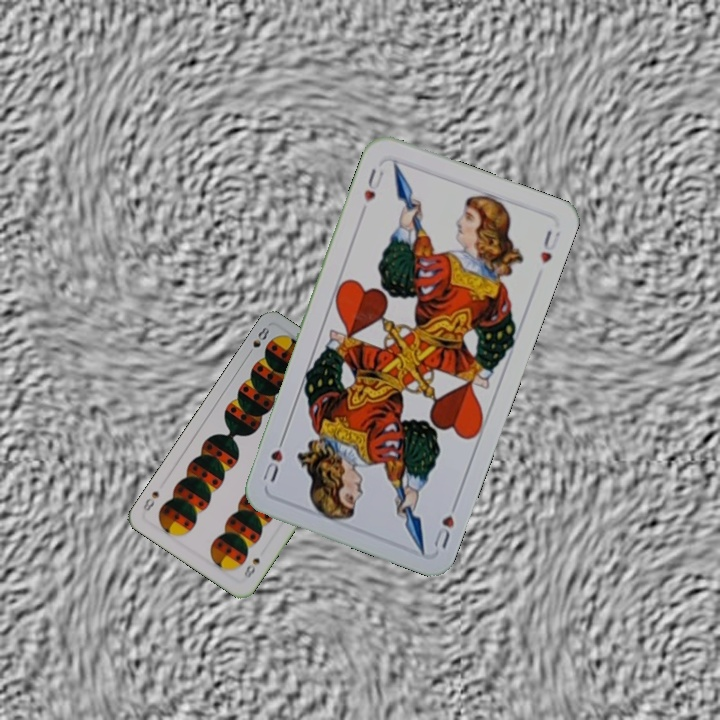HU: (429, 495, 461, 552), (360, 164, 387, 205)
S8: (243, 323, 272, 359), (240, 554, 263, 581)
